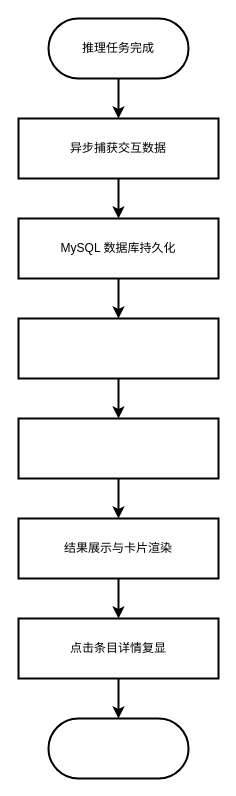
Some shapes in this 236 by 796 pixel diagram are drawn without their labels. Here are the shapes that lost their labels. From the top down, the centre of each, then its label:
At (x=118, y=348): "用户触发历史查询".
At (x=118, y=448): "分页检索历史记录".
At (x=118, y=748): "结束".
